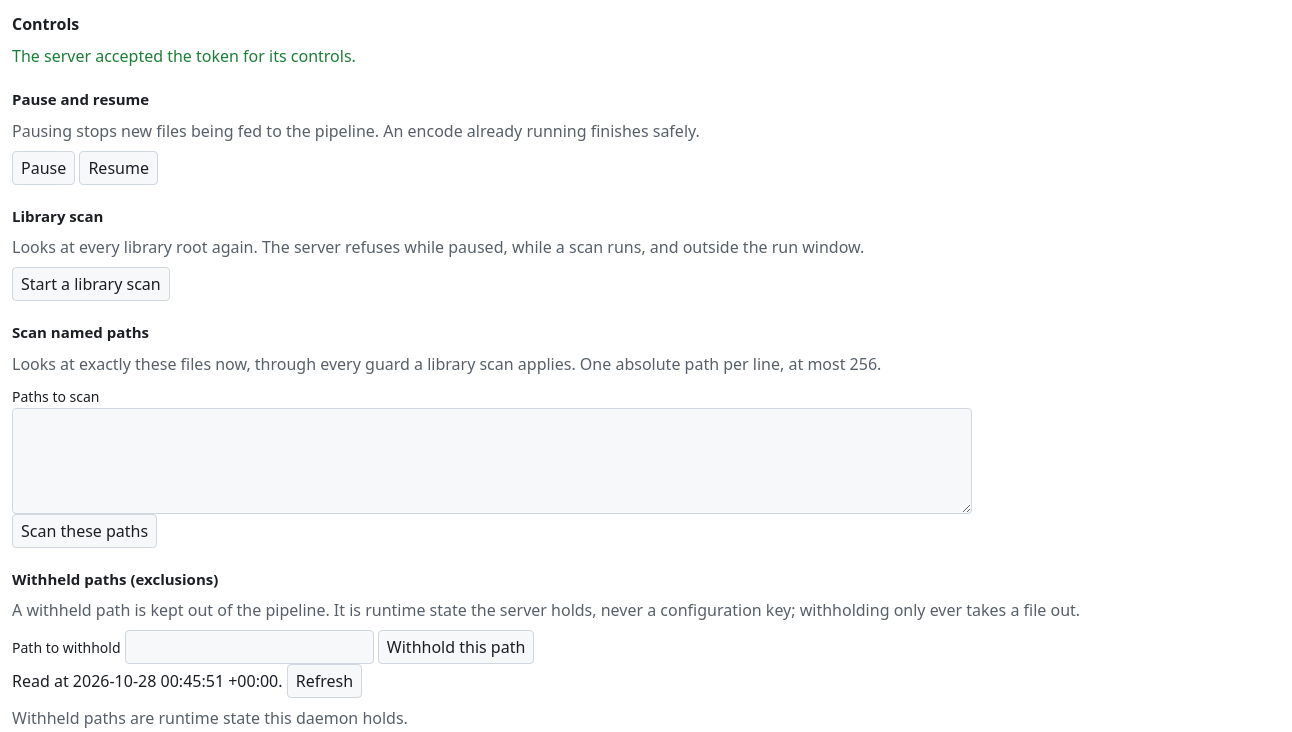
Test: controls › controls: pause sends POST /api/pause with the token and shows the server's answer
The image size is (1292, 732).
Check: the text "The server accepted the token for its controls." is shown, box [12,45,356,67]
Click the button "Pause" at (44, 168), box [12,150,75,184]
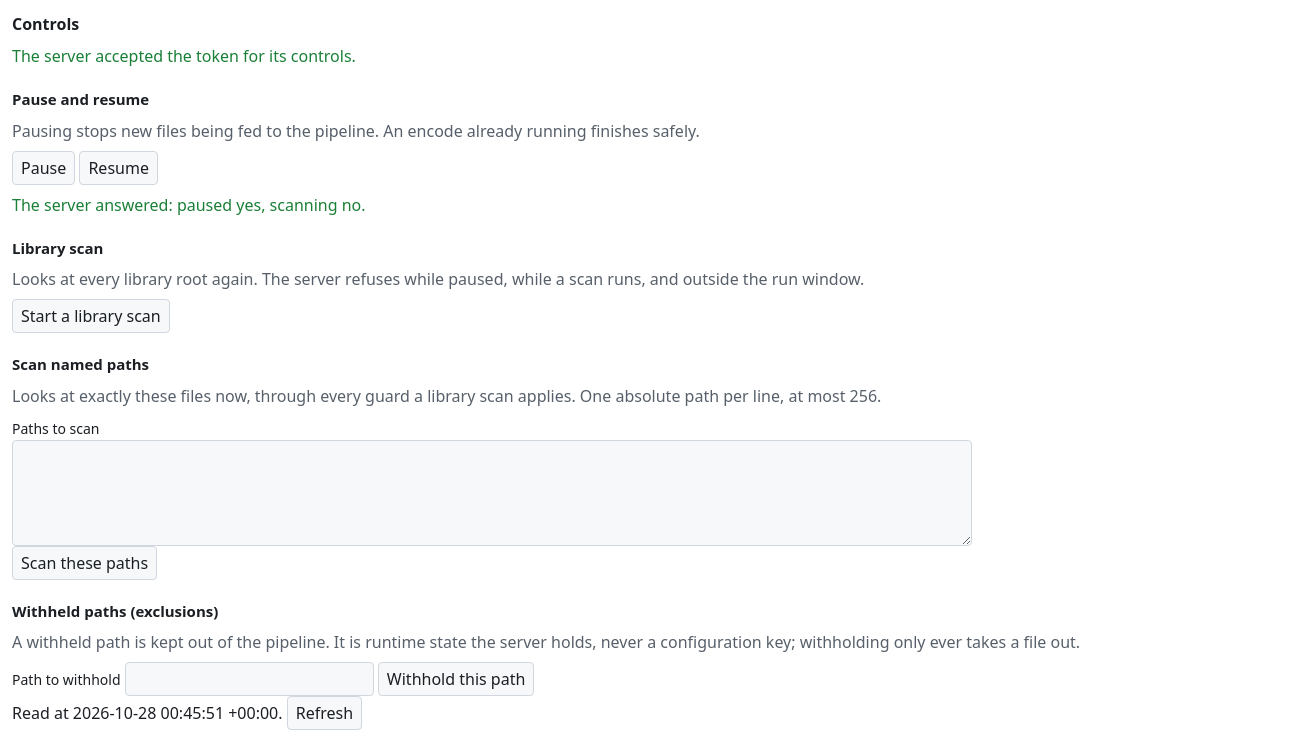
Check: the text "The server answered: paused yes, scanning no." is shown, box [12,194,366,216]
